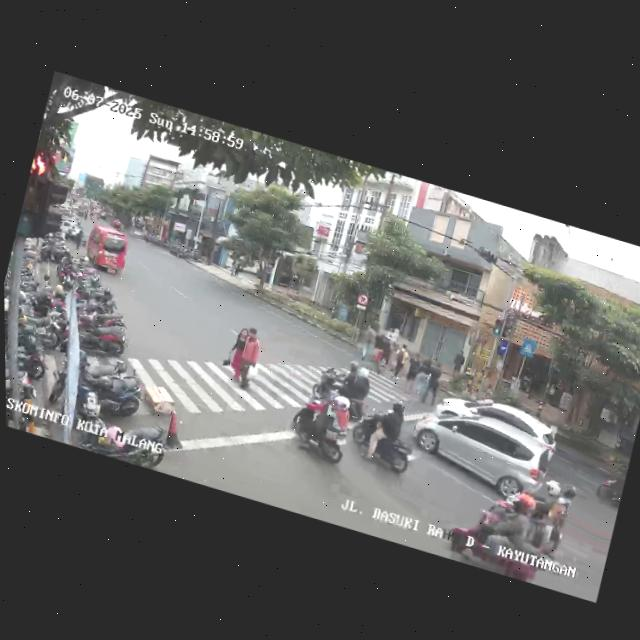car: (406, 397, 555, 513), (431, 384, 564, 462), (79, 221, 133, 279)
motorcycle: (444, 474, 558, 586), (481, 462, 578, 558), (347, 392, 425, 483), (282, 378, 359, 470), (307, 352, 374, 421), (592, 452, 630, 512)
person: (232, 325, 266, 391), (221, 324, 250, 380), (366, 332, 396, 379), (420, 360, 445, 408), (402, 350, 423, 396), (410, 359, 431, 402), (389, 341, 411, 382), (359, 323, 378, 361)
